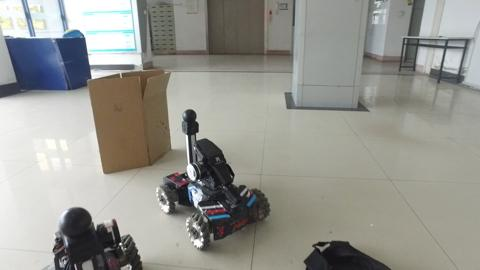box: (87, 68, 170, 175)
chariot: (158, 108, 272, 250)
